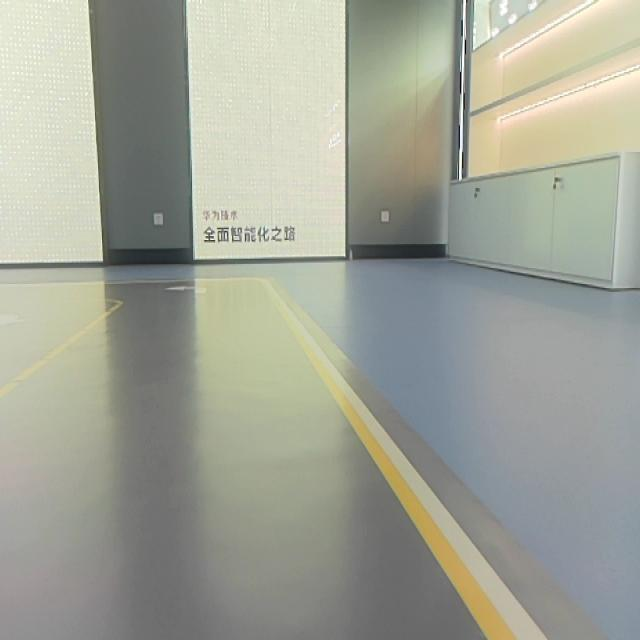left_lane: (0, 304, 117, 402)
right_lane: (271, 288, 512, 635)
